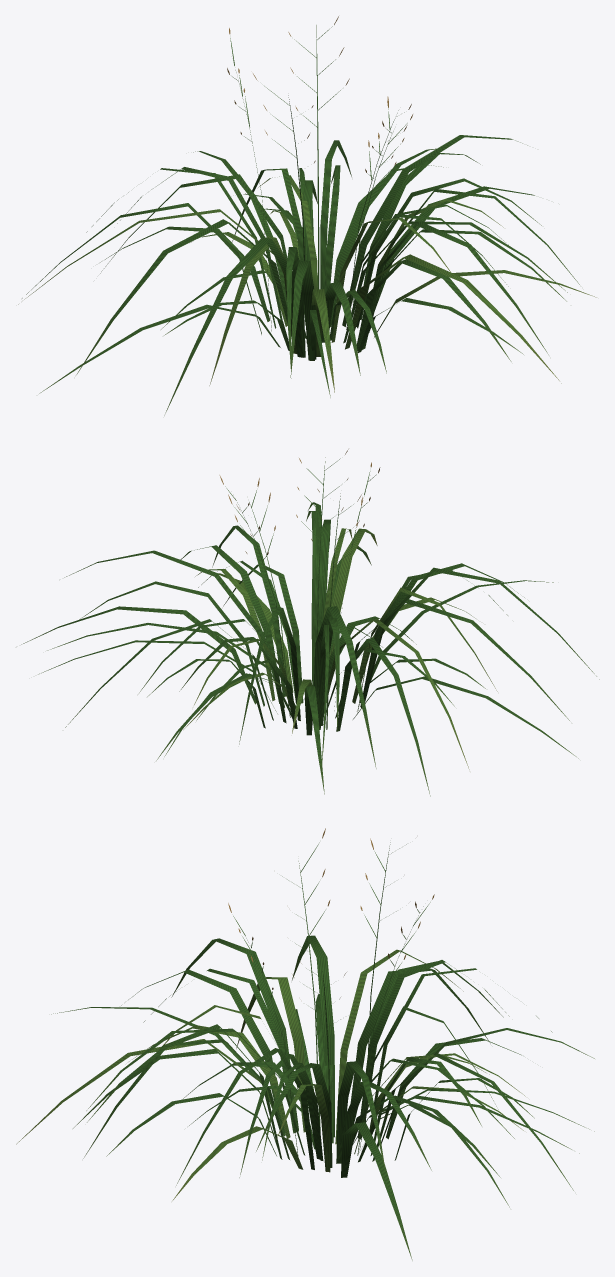
File: floating-sweet-grass.glb
3 renders of one model, top to bottom at view 1: azimuth 30°, elevation 25°; view 2: azimuth 150°, elevation 25°; view 3: azimuth 270°, elevation 25°, orthographic. The views are drawn at different scales.
Visible parts, largest first — view 1: Floating sweet-grass; view 2: Floating sweet-grass; view 3: Floating sweet-grass.
Part boxes in pixels (bbox=[...]): Floating sweet-grass: bbox=[18, 16, 596, 415]; Floating sweet-grass: bbox=[21, 449, 599, 796]; Floating sweet-grass: bbox=[16, 828, 594, 1260].
Size of the model in its own units: 0.9763 by 0.466 by 0.8482.
1 material, 1 textured.
